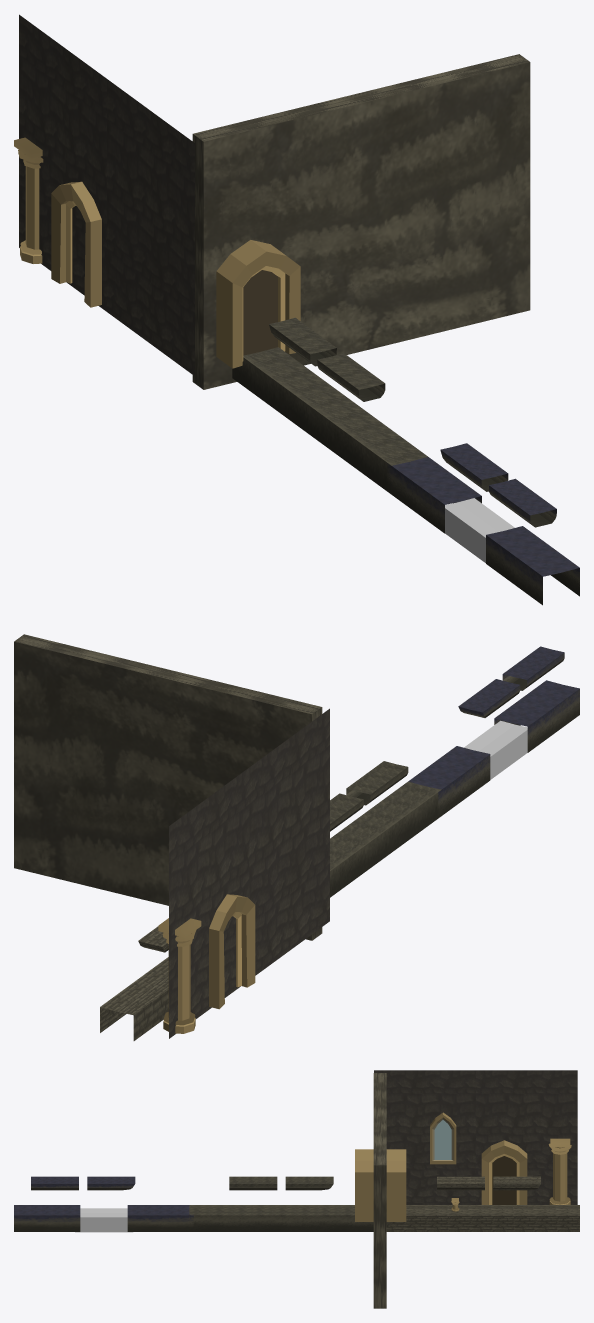
Rendered from TerrainSinHunter1.fbx.
The picture shows the model from 3 angles, top to bottom: view 1: azimuth 30°, elevation 25°; view 2: azimuth 150°, elevation 25°; view 3: azimuth 270°, elevation 25°; orthographic projection. The views are drawn at different scales.
Visible parts, largest first — view 1: Cube.004, Floor.011, Cube.003, Cube.002, Floor, Floor.004, Floor.003, Floor.014, Floor.012, LavaPool, Cube.001, Floor.005 (+3 smaller); view 2: Cube.004, Floor.011, Cube.002, Floor, Floor.003, Floor.014, Floor.013, Floor.004, Cube.001, LavaPool, Floor.001, Floor.005 (+2 smaller); view 3: Floor.011, Cube.004, Cube.002, Floor, Floor.004, Floor.013, Floor.003, Floor.010, Floor.014, Cube.005, Cube.003, Floor.007 (+10 smaller).
Part boxes in pixels (bbox=[...]): Cube.004: bbox=[192, 54, 530, 389]; Floor.011: bbox=[19, 14, 194, 375]; Cube.003: bbox=[216, 240, 300, 368]; Cube.002: bbox=[51, 181, 101, 307]; Floor: bbox=[486, 526, 579, 605]; Floor.004: bbox=[279, 375, 373, 452]; Floor.003: bbox=[387, 457, 481, 533]; Floor.014: bbox=[334, 417, 427, 492]; Floor.012: bbox=[232, 347, 316, 412]; LavaPool: bbox=[445, 498, 514, 562]; Cube.001: bbox=[14, 137, 43, 263]; Floor.005: bbox=[317, 353, 385, 401]; Cube.004: bbox=[14, 634, 322, 940]; Floor.011: bbox=[169, 708, 329, 1038]; Cube.002: bbox=[209, 894, 255, 1009]; Floor: bbox=[494, 680, 579, 752]; Floor.003: bbox=[408, 746, 490, 818]; Floor.014: bbox=[358, 781, 441, 853]; Floor.013: bbox=[100, 969, 168, 1040]; Floor.004: bbox=[330, 818, 391, 890]; Cube.001: bbox=[158, 918, 201, 1033]; LavaPool: bbox=[464, 720, 527, 779]; Floor.001: bbox=[502, 646, 564, 690]; Floor.005: bbox=[346, 761, 408, 805]; Floor.011: bbox=[374, 1070, 577, 1204]; Cube.004: bbox=[373, 1073, 386, 1308]; Cube.002: bbox=[481, 1140, 527, 1204]; Floor: bbox=[14, 1205, 80, 1231]; Floor.004: bbox=[252, 1205, 318, 1231]; Floor.013: bbox=[513, 1205, 579, 1231]; Floor.003: bbox=[127, 1205, 193, 1231]; Floor.010: bbox=[449, 1205, 514, 1231]; Floor.014: bbox=[189, 1205, 255, 1231]; Cube.005: bbox=[386, 1149, 406, 1221]; Cube.003: bbox=[355, 1149, 373, 1221]; Floor.007: bbox=[386, 1205, 448, 1231].
Bounding box in the file's own units: 5072 × 3458 × 12327.
